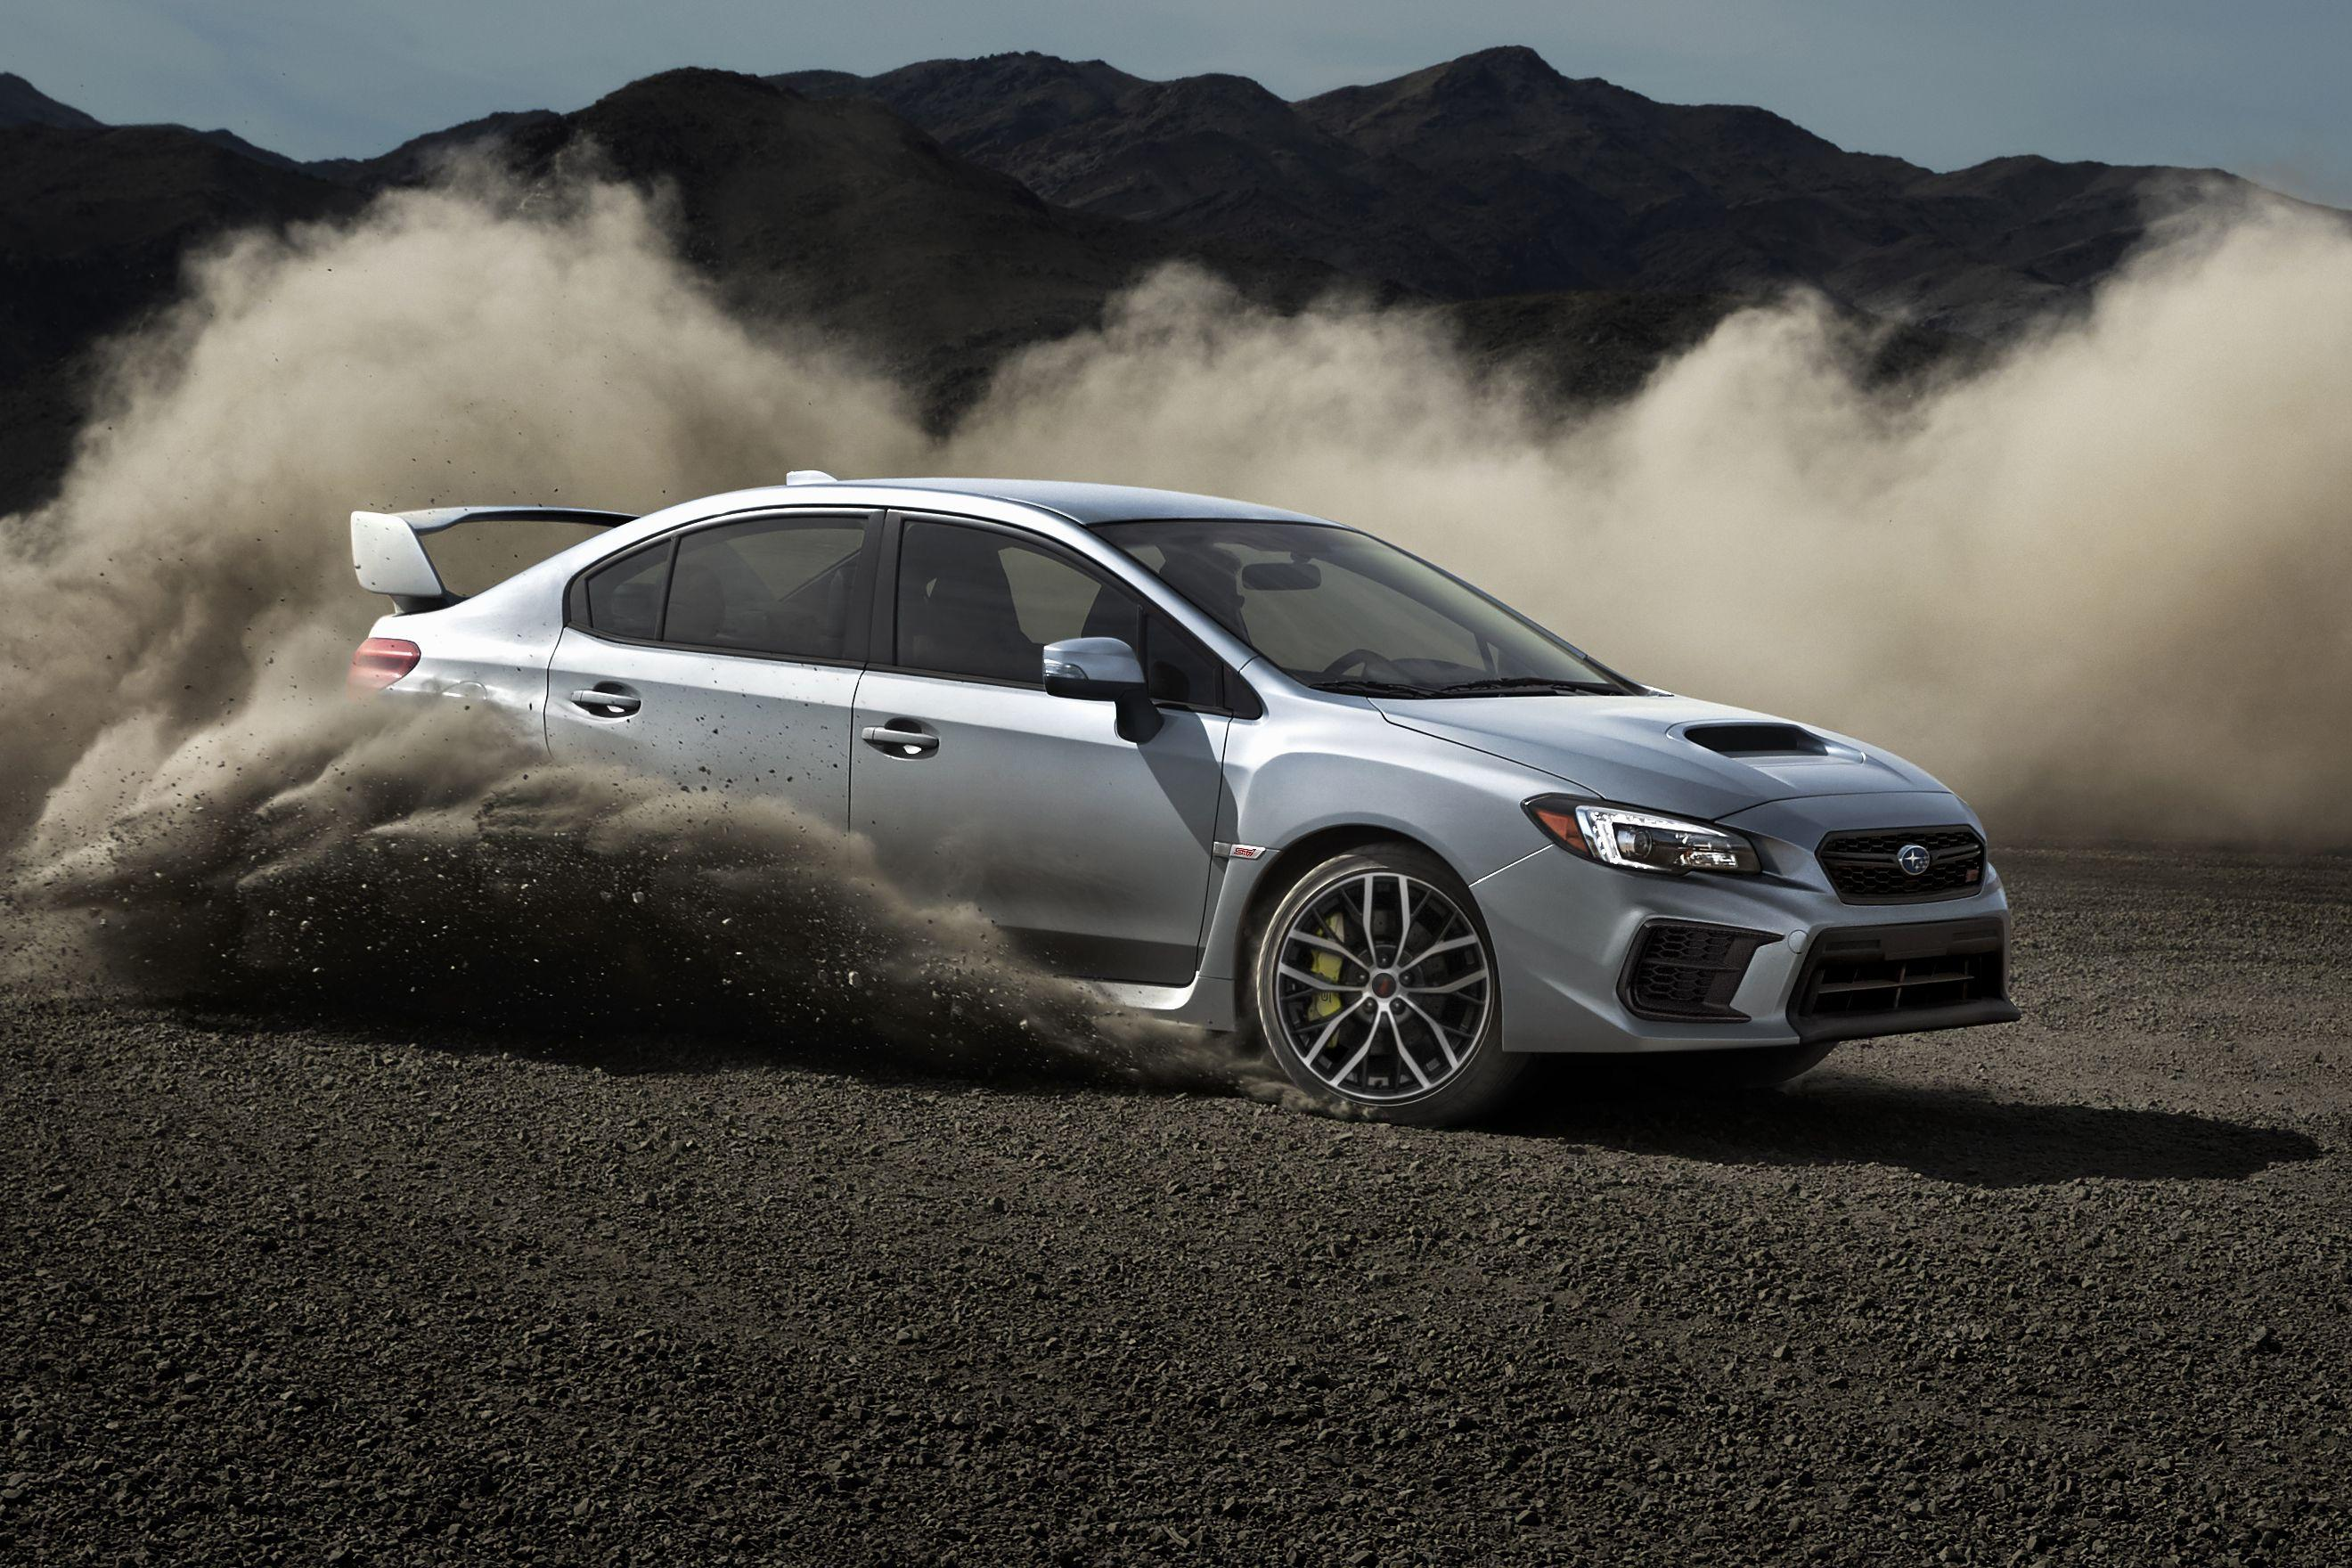subaru: (1890, 835, 1946, 889)
